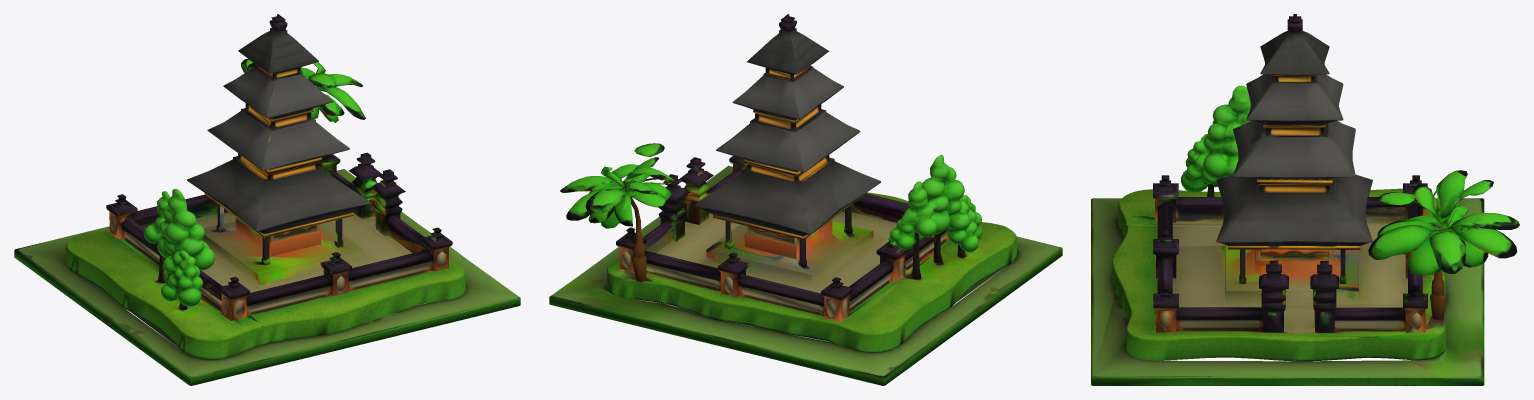
Rendered from pura.glb.
The picture shows the model from 3 angles, left to right: view 1: azimuth 30°, elevation 25°; view 2: azimuth 150°, elevation 25°; view 3: azimuth 270°, elevation 25°; orthographic projection. The views are drawn at different scales.
Parts seen in each view (by area): view 1: tripo_node_0cf8fe97; view 2: tripo_node_0cf8fe97; view 3: tripo_node_0cf8fe97.
Boxes of the visible parts, x1,y1,x2,y2 form: tripo_node_0cf8fe97: (14,14,520,385); tripo_node_0cf8fe97: (549,14,1062,385); tripo_node_0cf8fe97: (1091,14,1519,385).
Bounding box in the file's own units: 0.9974 × 0.745 × 1.
Materials: 1 (1 with a texture image).
